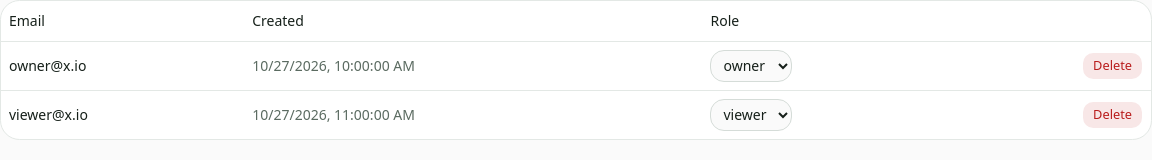
a confirmed delete removes the row
Expected: the text "viewer@x.io" is shown, [1, 90, 244, 138]
What coordinates should you click on to do the following:
click the button with aria-label "Delete viewer@x.io"
I would click on:
 (1113, 114)
Its box is [1082, 100, 1143, 128].
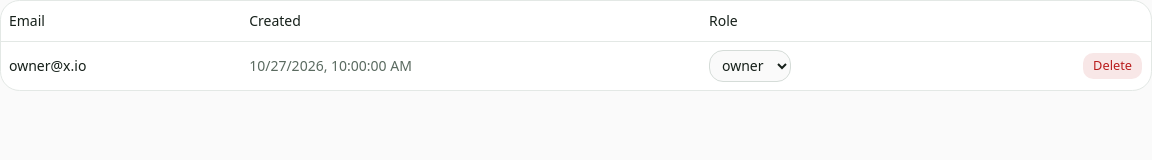
Expected: the text "owner@x.io" is shown, [1, 41, 241, 90]
Expected: the text "viewer@x.io" is gone
